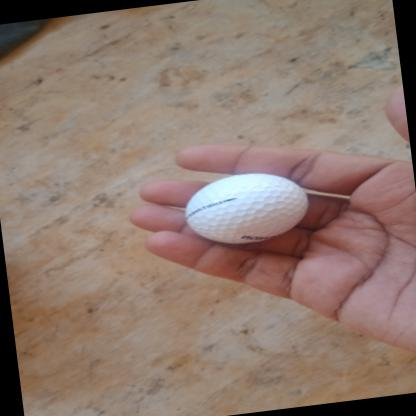Golf: (173, 164, 317, 254)
